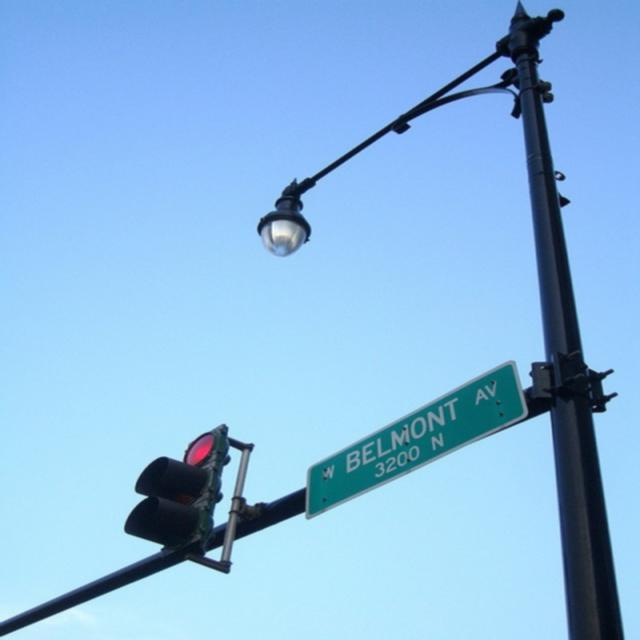pole: (501, 6, 624, 639)
